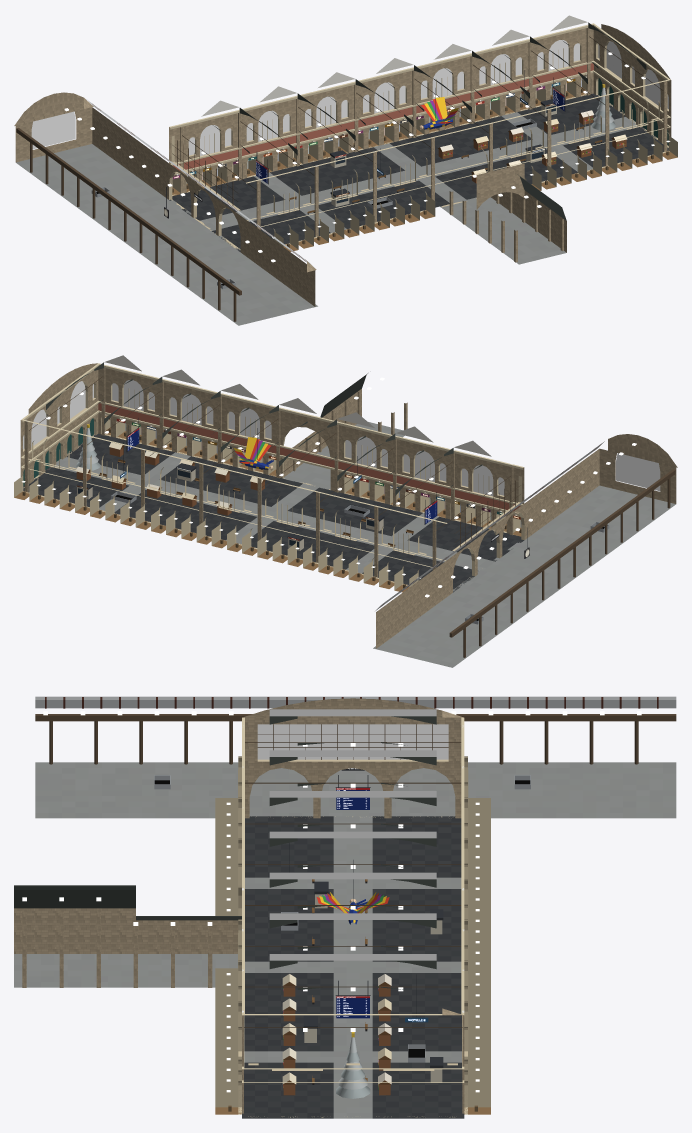
File: hb_inner.glb
3 renders of one model, top to bottom at view 1: azimuth 30°, elevation 25°; view 2: azimuth 150°, elevation 25°; view 3: azimuth 270°, elevation 25°, orthographic. The views are drawn at different scales.
Parts seen in each view (by area): view 1: hb_inner; view 2: hb_inner; view 3: hb_inner.
Part boxes in pixels (x1,y1,x2,y2): hb_inner: [14, 15, 677, 325]; hb_inner: [14, 355, 677, 667]; hb_inner: [14, 696, 676, 1118].
Size of the model in its own units: 159 by 28 by 125.
Materials: 3 (3 with a texture image).
